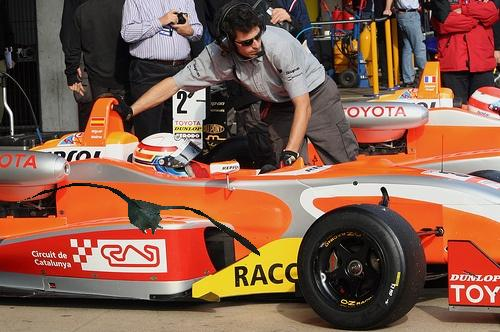tampered: (18, 184, 260, 256)
